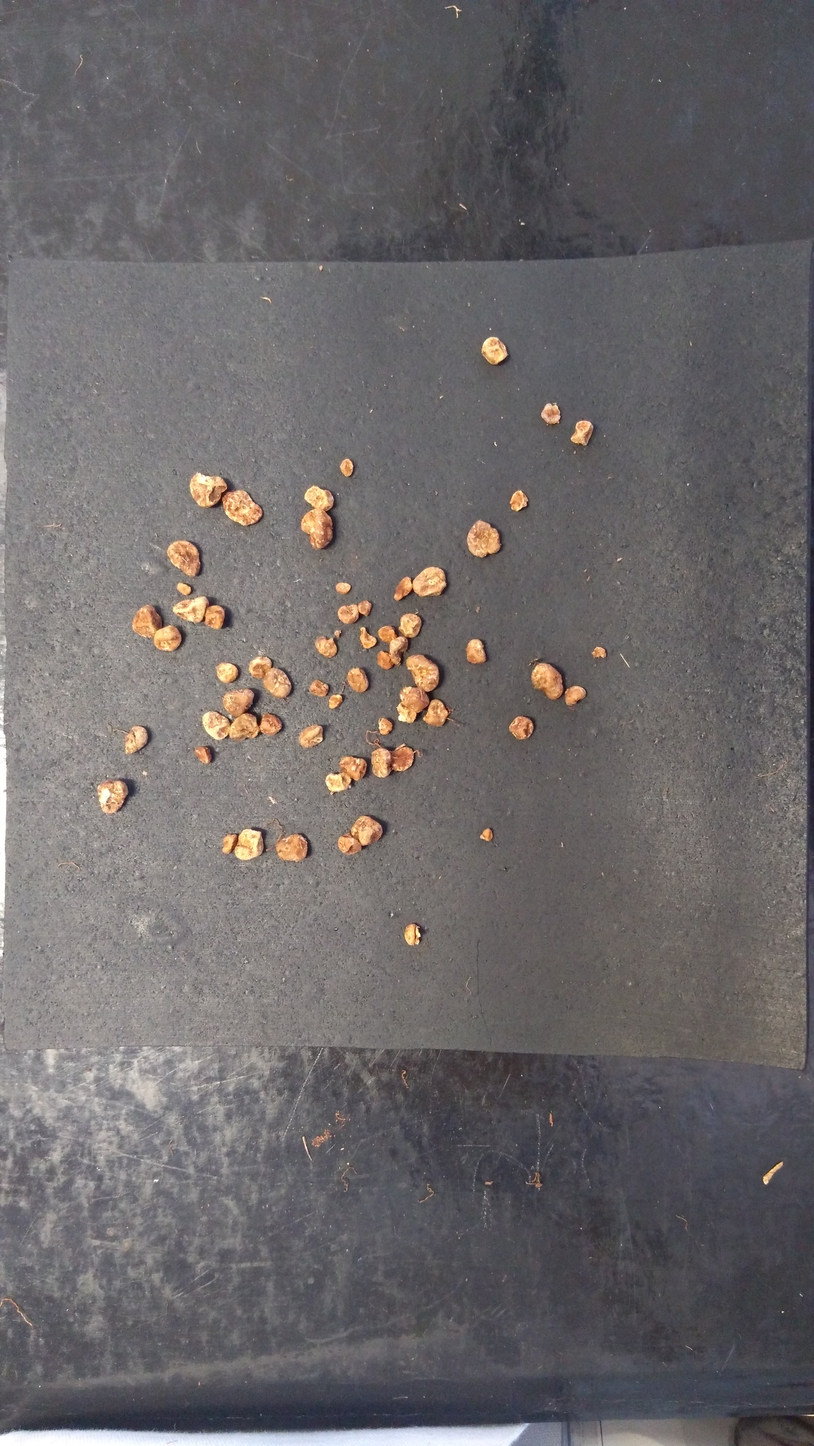nodule: (219, 485, 268, 529), (185, 468, 232, 512), (298, 506, 339, 554), (94, 774, 136, 818), (465, 517, 505, 562), (403, 652, 444, 695), (164, 537, 204, 581), (233, 822, 268, 868), (410, 562, 450, 601), (271, 832, 312, 870), (528, 661, 564, 701), (118, 721, 153, 762), (259, 664, 295, 702), (129, 602, 165, 639), (169, 594, 211, 625), (347, 813, 385, 847), (228, 709, 262, 744), (301, 482, 339, 513), (200, 709, 233, 744), (220, 687, 257, 718), (148, 623, 186, 653), (421, 697, 454, 731), (481, 333, 511, 370), (396, 684, 433, 713), (368, 743, 395, 781), (568, 416, 599, 449), (337, 754, 369, 783), (508, 712, 537, 744), (462, 636, 491, 667), (389, 744, 417, 776), (336, 830, 367, 858), (397, 612, 426, 641), (387, 634, 411, 669), (297, 723, 327, 751), (538, 398, 565, 429), (257, 706, 284, 737), (346, 666, 374, 695), (201, 602, 227, 633), (324, 770, 357, 794), (212, 660, 242, 686), (336, 453, 363, 480), (247, 652, 273, 680), (390, 573, 415, 602), (314, 634, 340, 661), (561, 683, 589, 708), (189, 743, 214, 769), (335, 602, 361, 626), (404, 921, 425, 950), (508, 488, 531, 514), (359, 624, 378, 652), (374, 647, 395, 672), (397, 700, 418, 725), (478, 823, 499, 848), (376, 624, 400, 645), (219, 830, 237, 858), (376, 716, 397, 736), (174, 580, 197, 598), (308, 679, 329, 697), (357, 597, 374, 618), (335, 580, 355, 597), (327, 693, 344, 710), (591, 645, 608, 660)
